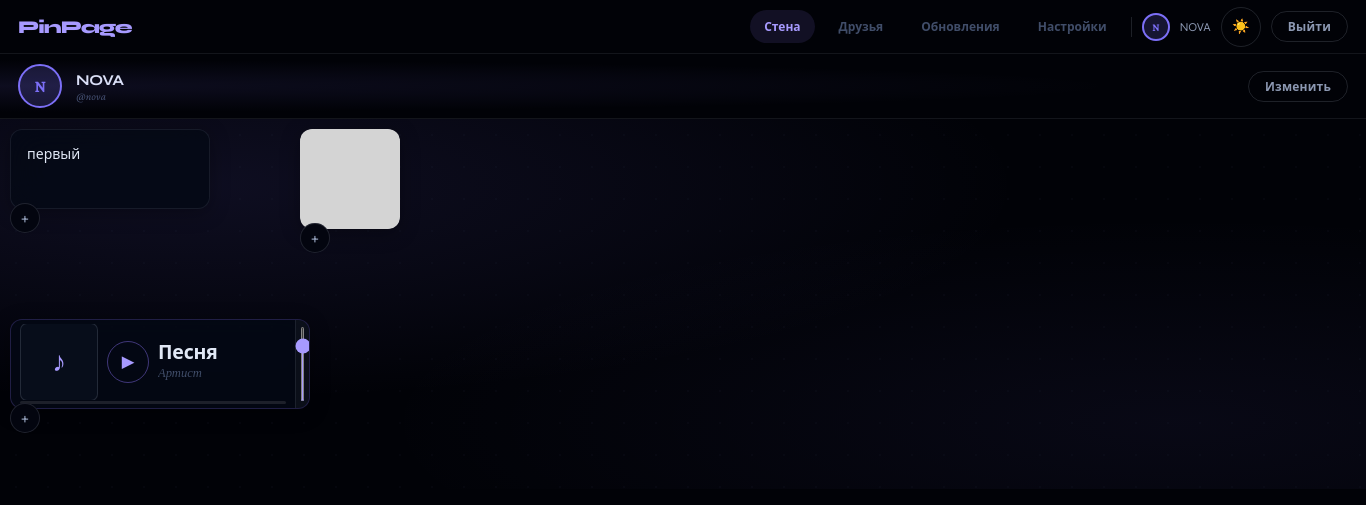
Test: взаимодействие с блоками › кнопка play переключается
Expected: the text "Песня" is shown, x1=158 y1=342 x2=218 y2=364
Click the button with class "music-play" at (128, 362), box x1=107 y1=341 x2=149 y2=383
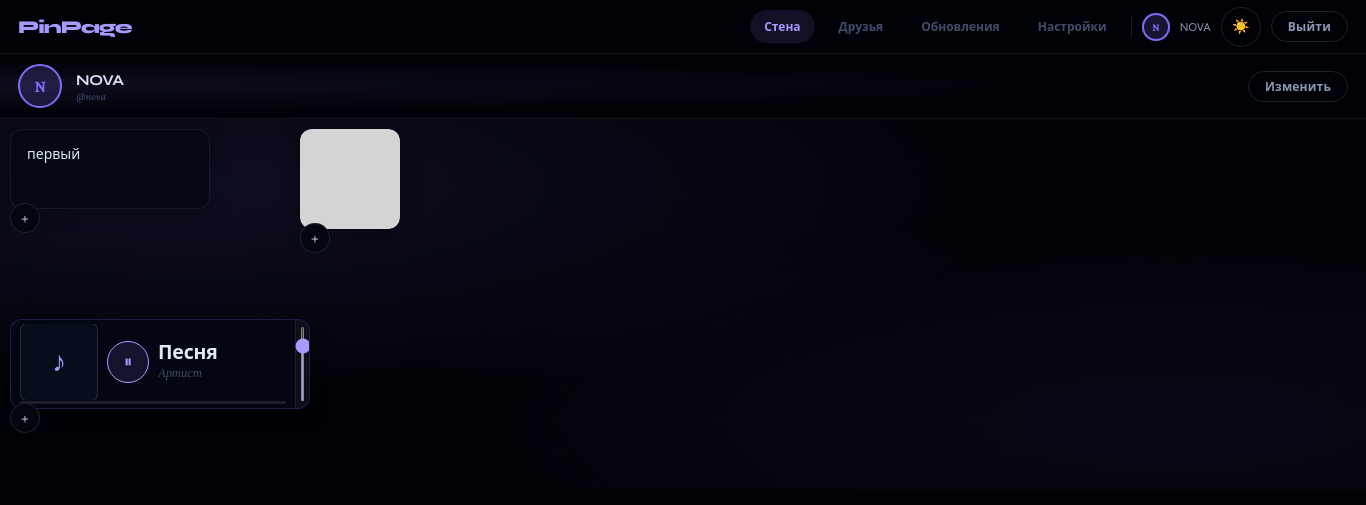
Expected: the button with class "music-play" reads "⏸"
Click the button with class "music-play" at (128, 362), box x1=107 y1=341 x2=149 y2=383
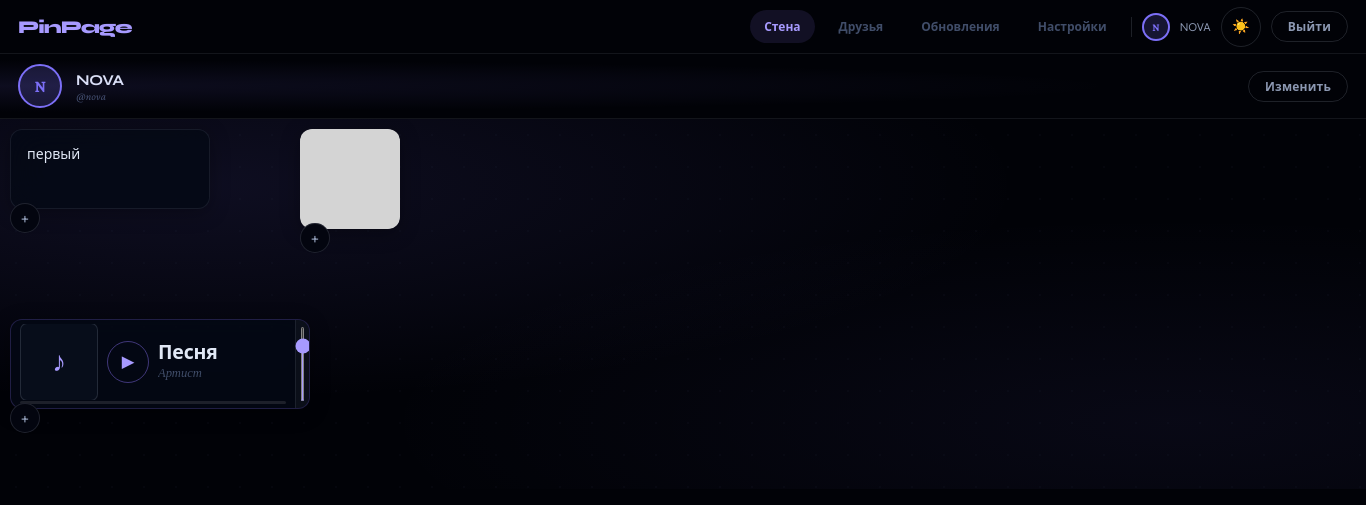
Expected: the button with class "music-play" reads "▶", x1=107 y1=341 x2=149 y2=383
